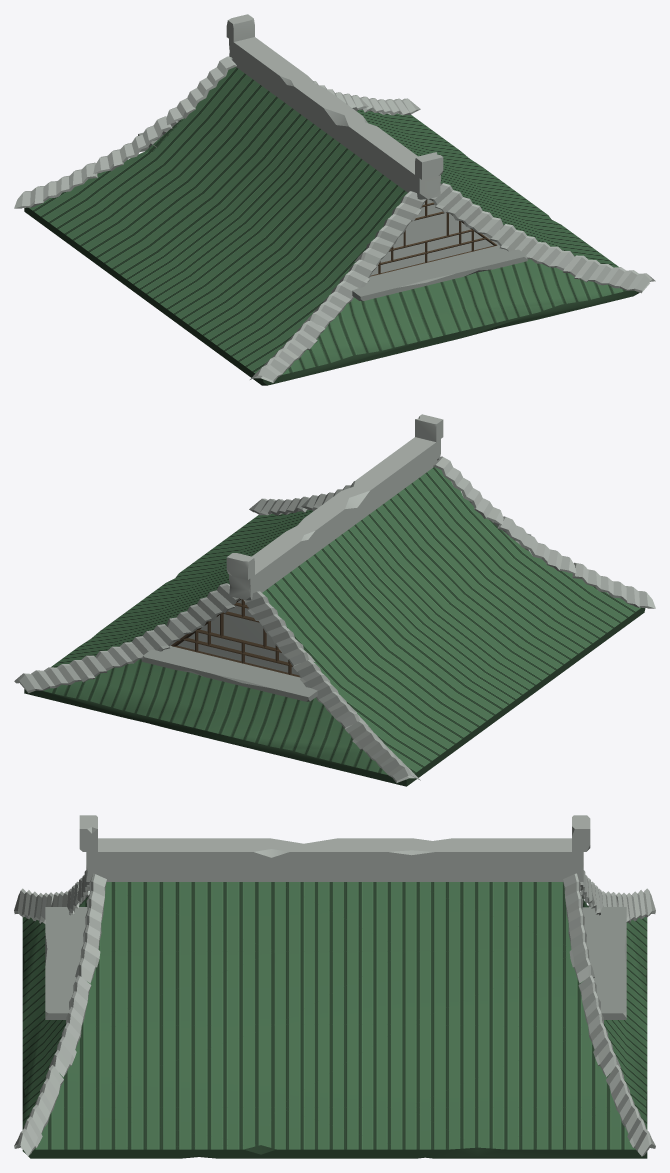
Rendered from SM_Env_Roof_10.fbx.
3 renders of one model, top to bottom at view 1: azimuth 30°, elevation 25°; view 2: azimuth 150°, elevation 25°; view 3: azimuth 270°, elevation 25°, orthographic. The views are drawn at different scales.
Visible parts, largest first — view 1: SM_Env_Roof_10; view 2: SM_Env_Roof_10; view 3: SM_Env_Roof_10.
Part boxes in pixels (box(x1,y1,x2,y2)): SM_Env_Roof_10: box(14, 14, 655, 385); SM_Env_Roof_10: box(14, 414, 655, 786); SM_Env_Roof_10: box(14, 815, 655, 1158).
Size of the model in its own units: 372 by 143 by 388.
Materials: 1 (1 with a texture image).
